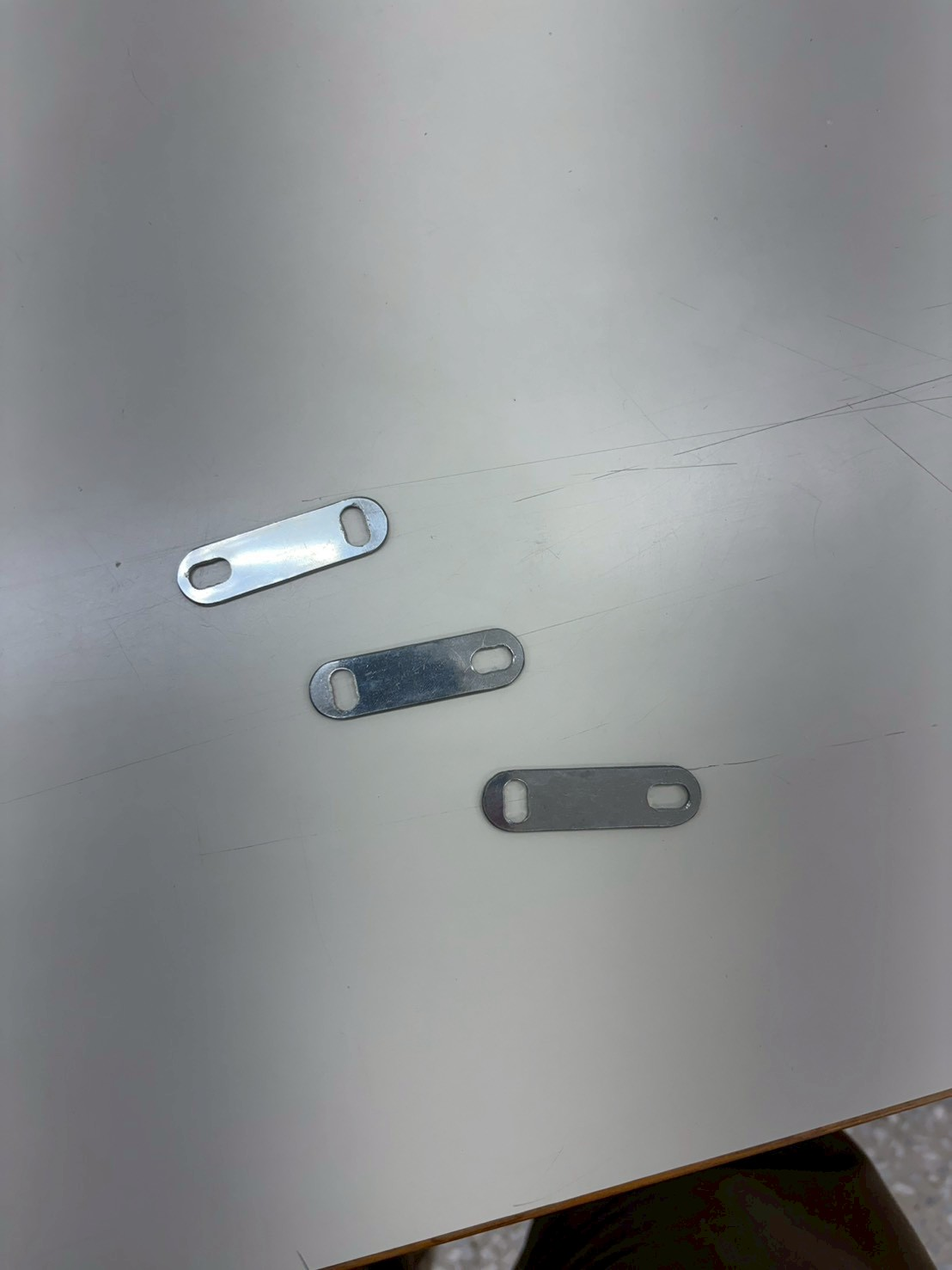Fe: (163, 494, 409, 623)
